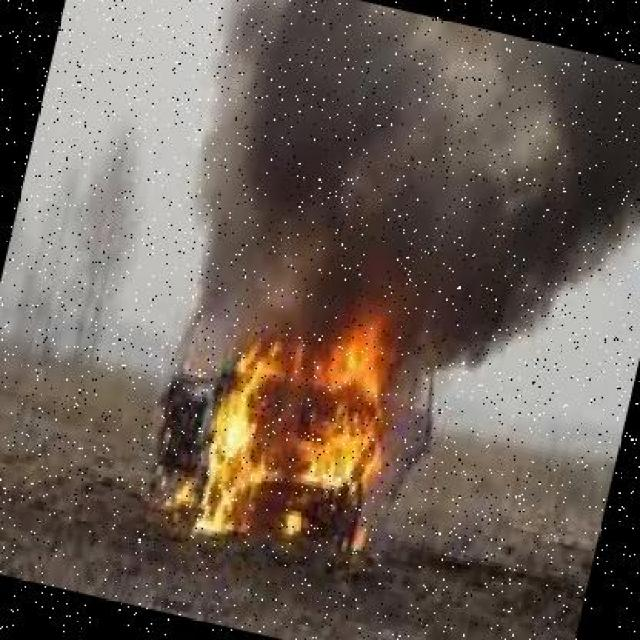fire: (171, 282, 426, 568)
